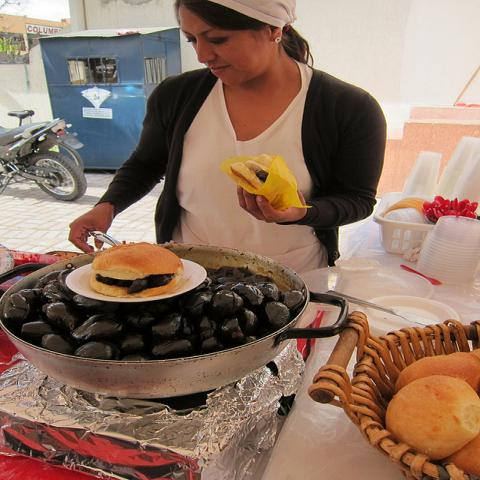motorcycle: (3, 119, 90, 202)
